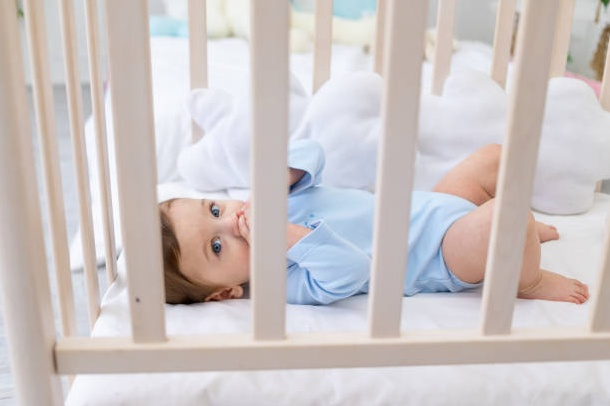baby: (287, 140, 374, 303)
crib: (0, 0, 609, 404)
